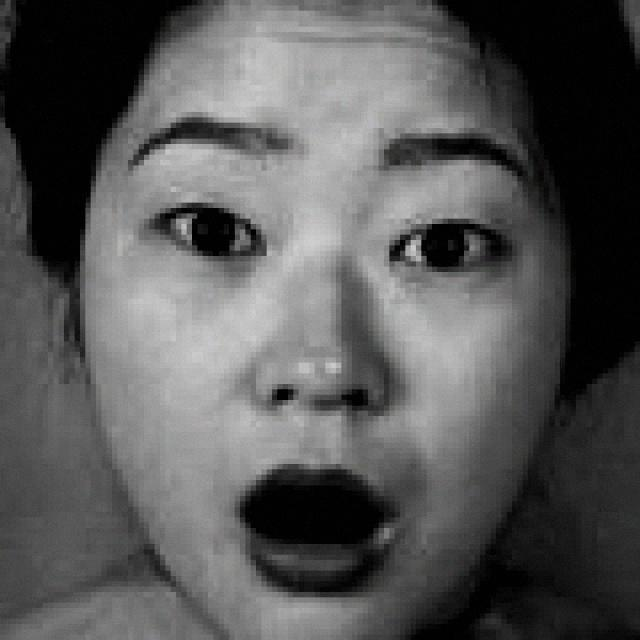surprise: (70, 18, 552, 640)
